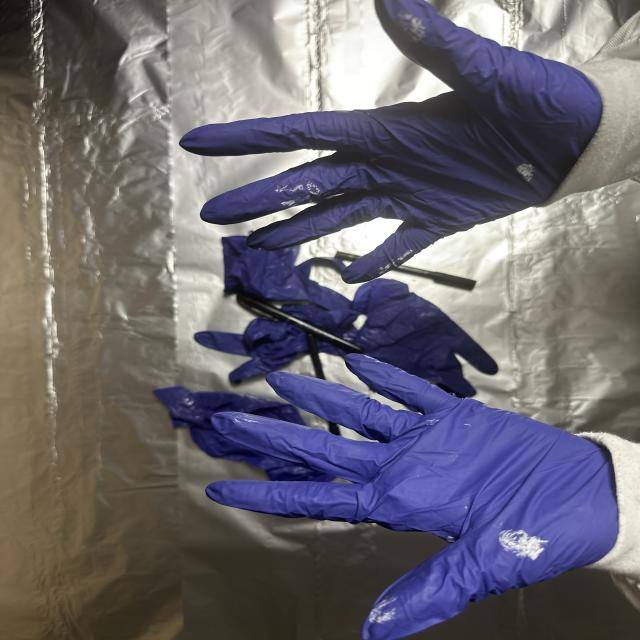gloves_contaminated: (180, 0, 604, 283), (206, 355, 618, 640)
